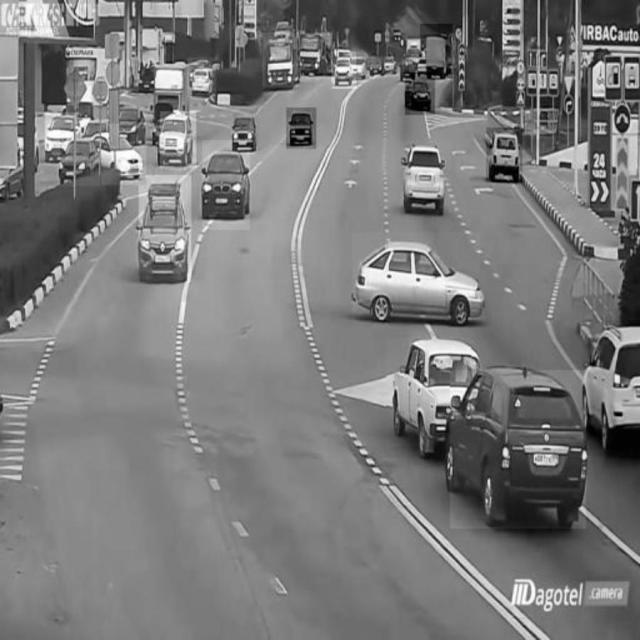vehicle: (451, 370, 587, 528), (352, 232, 480, 320), (387, 339, 471, 447), (584, 320, 640, 450), (139, 176, 191, 284), (202, 141, 250, 231), (399, 141, 451, 214), (101, 124, 146, 185), (60, 129, 100, 186), (160, 112, 196, 168), (486, 128, 522, 183), (263, 33, 298, 88), (420, 24, 452, 79), (45, 112, 79, 162), (406, 73, 436, 115), (287, 108, 317, 149), (188, 58, 216, 98), (233, 112, 259, 148), (331, 51, 356, 88)
